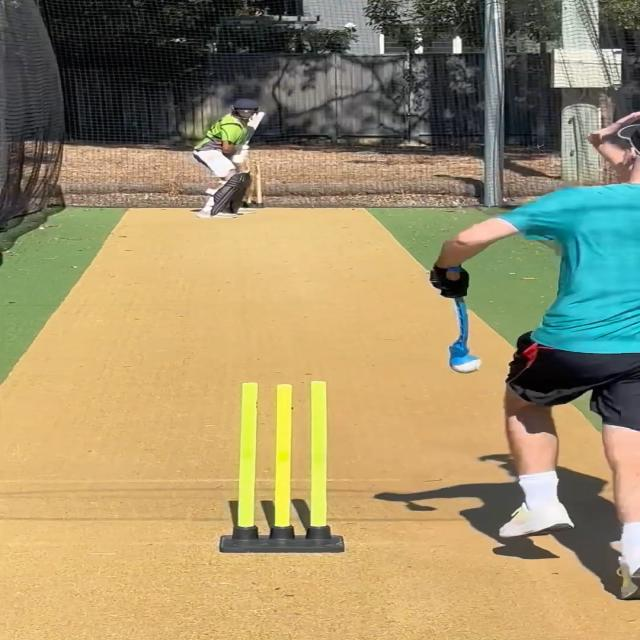stump: (217, 379, 346, 557)
